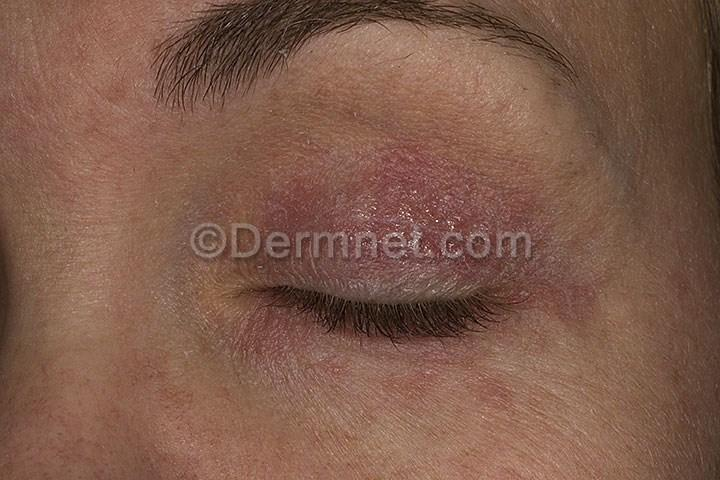Eczema: (66, 53, 163, 138), (0, 83, 75, 192), (133, 352, 197, 441), (405, 344, 482, 410), (340, 334, 408, 398), (541, 261, 604, 326), (127, 426, 202, 480), (398, 225, 459, 288), (381, 176, 454, 227), (228, 238, 309, 283), (361, 229, 415, 296), (369, 139, 461, 177), (236, 198, 327, 236), (498, 212, 547, 282), (309, 235, 369, 292), (456, 163, 518, 218), (458, 217, 506, 287), (243, 324, 309, 374), (476, 312, 539, 362), (326, 177, 382, 231), (306, 335, 358, 393), (287, 153, 337, 211), (644, 355, 688, 411), (662, 256, 697, 312), (482, 377, 527, 420)
